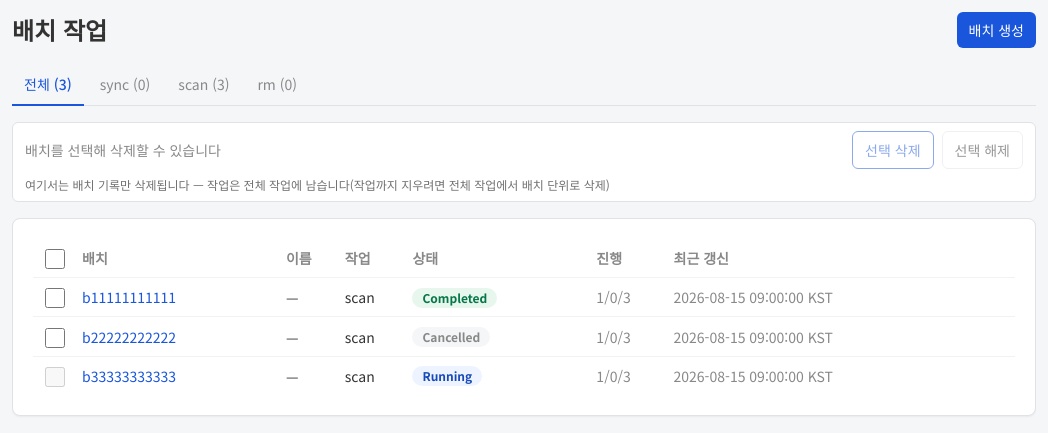
Test case: 액션 바는 미선택에도 자리를 지킨다 — 체크해도 표가 밀리지 않는다
expect the element named "배치 일괄 작업" shows "배치를 선택해 삭제할 수 있습니다": met, box [25,140,221,160]
expect the button "선택 삭제" is disabled: met, box [852,131,934,169]
Click the checkbox named "배치 b11111111111 선택" at {"x": 55, "y": 298}, box [45,288,65,308]
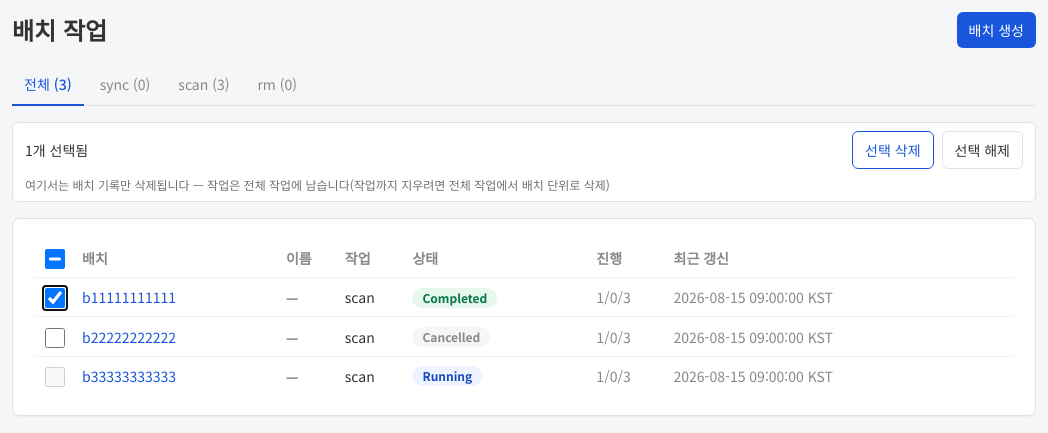
expect the element named "배치 일괄 작업" shows "1개 선택됨": met, box [25,140,88,160]
expect the button "선택 삭제" is enabled: met, box [852,131,934,169]
